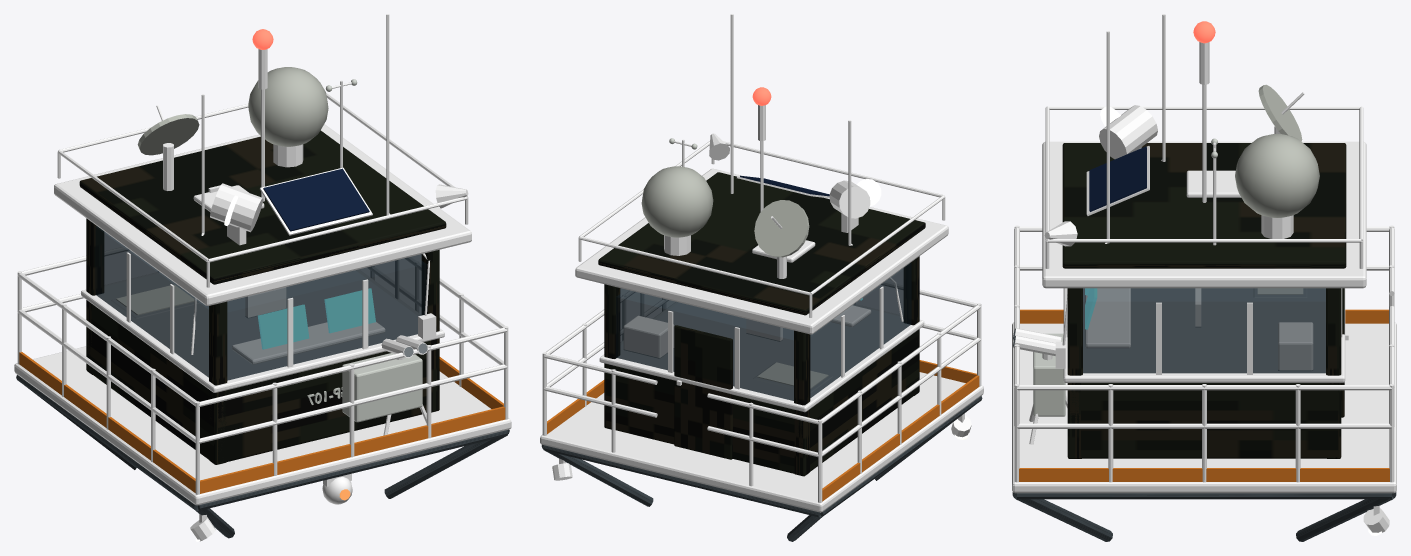
The model's file is gp_tower_cab.glb.
3 views of the same model, side by side, from view 1: azimuth 30°, elevation 25°; view 2: azimuth 150°, elevation 25°; view 3: azimuth 270°, elevation 25° (orthographic). The views are drawn at different scales.
Visible parts, largest first — view 1: GP_CAB; view 2: GP_CAB; view 3: GP_CAB.
Boxes of the visible parts, left/top/right/bottom form: GP_CAB: left=14, top=14, right=511, bottom=541; GP_CAB: left=540, top=14, right=983, bottom=541; GP_CAB: left=1012, top=14, right=1396, bottom=541.
Bounding box in the file's own units: 3.8 × 5.55 × 3.8.
Materials: 16 (2 with a texture image).
